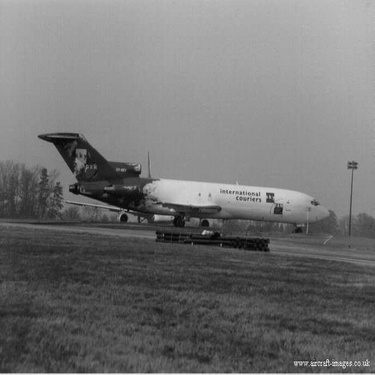airplane: (20, 118, 342, 244)
